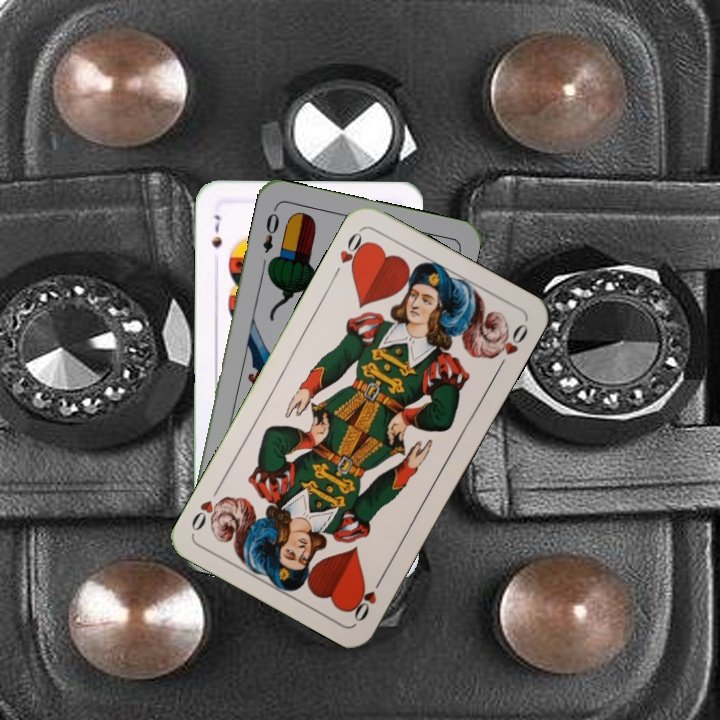EO: (258, 204, 282, 256)
HO: (328, 226, 371, 280), (348, 571, 387, 625)
S7: (208, 211, 225, 251)
